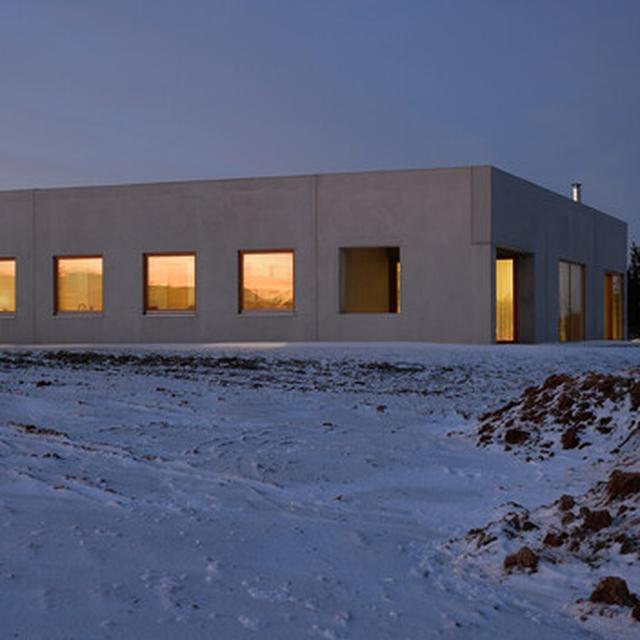building: (0, 164, 628, 343)
